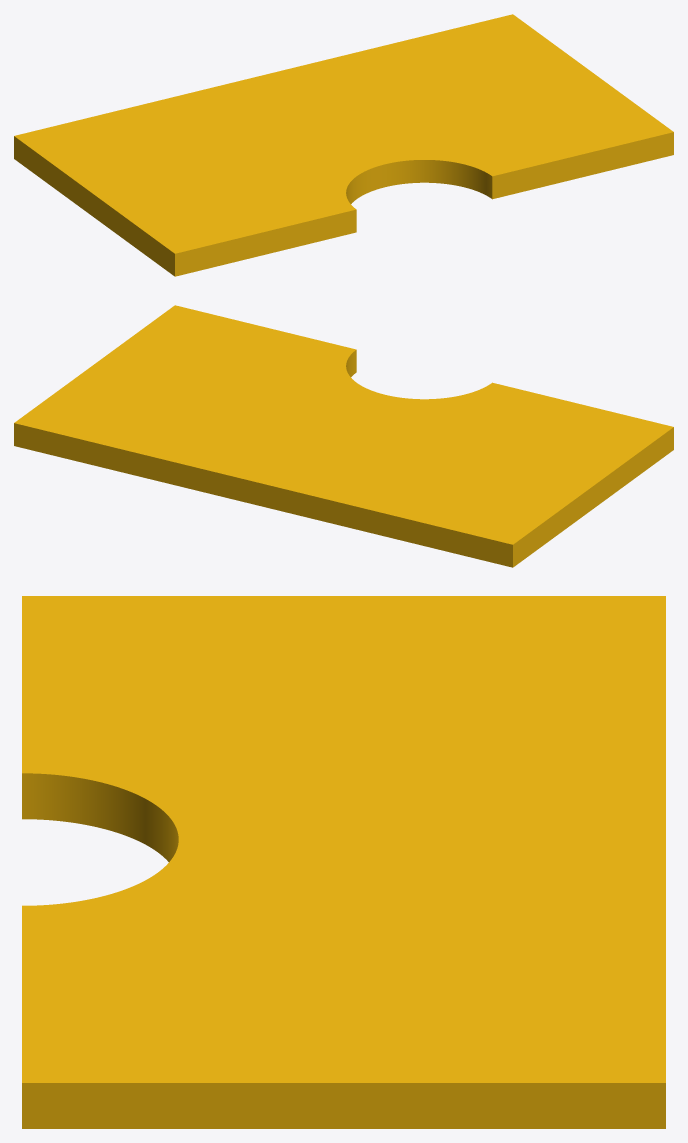
The model's file is Part Studio 1 - Part 6.gltf.
3 views of the same model, one above another, from view 1: azimuth 30°, elevation 25°; view 2: azimuth 150°, elevation 25°; view 3: azimuth 270°, elevation 25° (orthographic). The views are drawn at different scales.
Parts seen in each view (by area): view 1: Part 6; view 2: Part 6; view 3: Part 6.
Boxes of the visible parts, x1,y1,x2,y2 form: Part 6: (14, 14, 673, 276); Part 6: (14, 305, 673, 567); Part 6: (22, 596, 665, 1128).
Size of the model in its own units: 0.2892 by 0.0127 by 0.1616.
